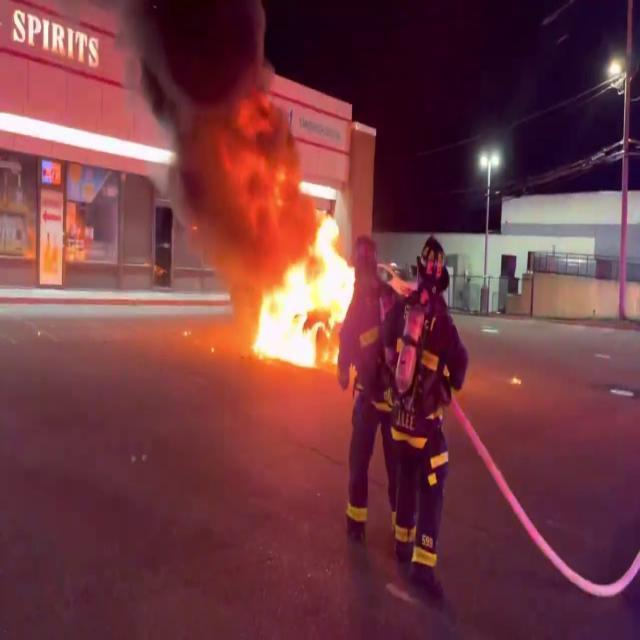Fire: (242, 200, 365, 370)
Smoke: (117, 0, 286, 188)
